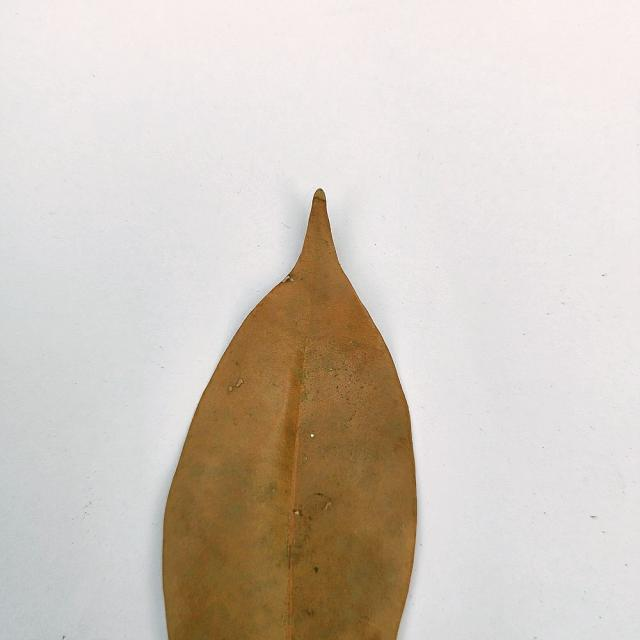Dry_Leaf-Lychee: (161, 191, 419, 639)
